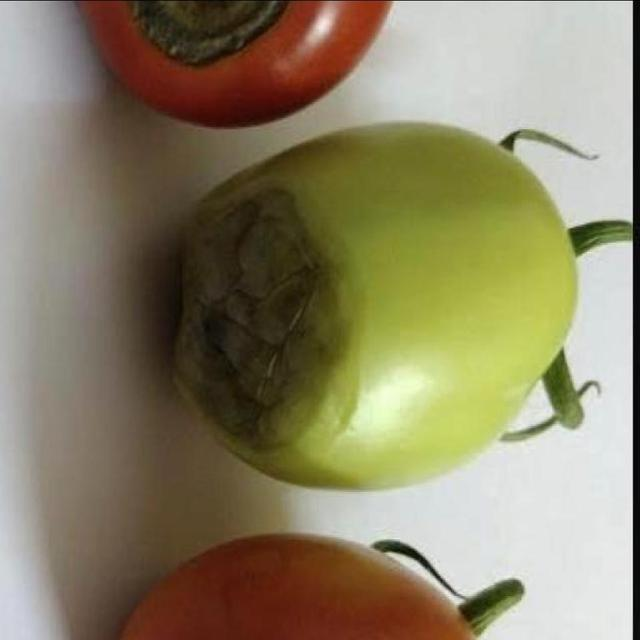Blossom End Rot Fruit: (115, 25, 178, 214)
